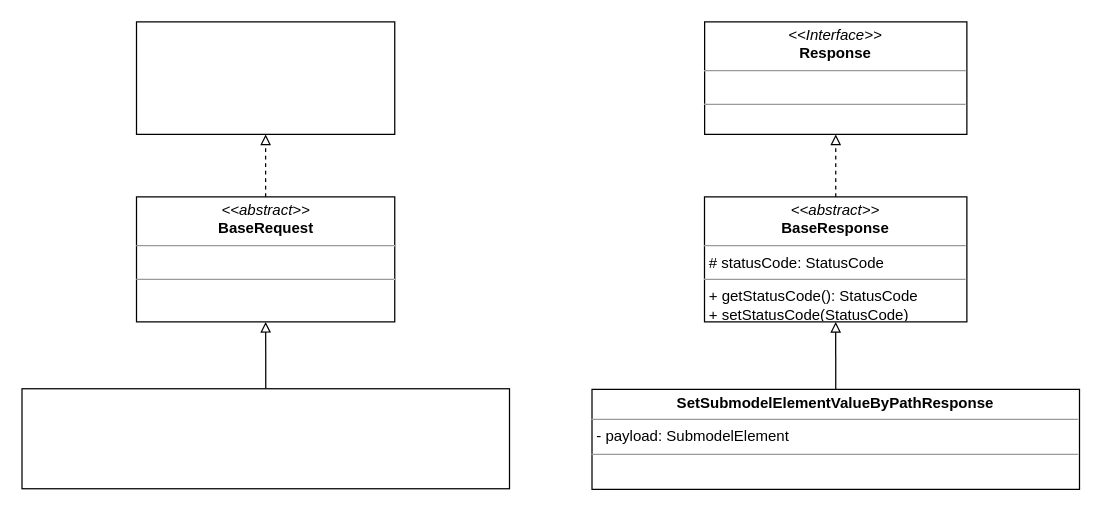
The diagram is 1101 pixels wide and 511 high, and some of its shapes have lost their labels. Here are the shapes that lost their labels. From the top down, the box of each, then its label:
(135, 21, 395, 134): <<Interface>> Request
(21, 388, 510, 489): SetSubmodelElementValueByPathRequest - path: key[ ] - payload: ElementValue
